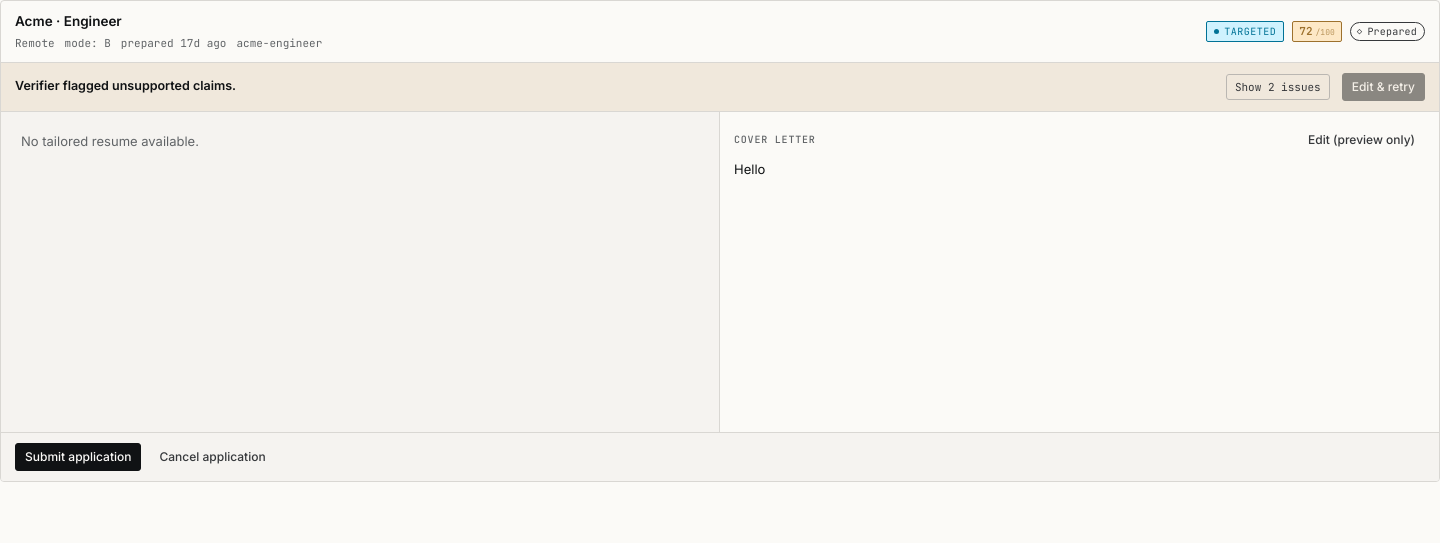
it: QueueCard slice-3 surface › verify issue list toggles on Show/Hide click
Click the button with test id "queue-card-verify-toggle".
click(1278, 87)  # box [1226,74,1330,100]
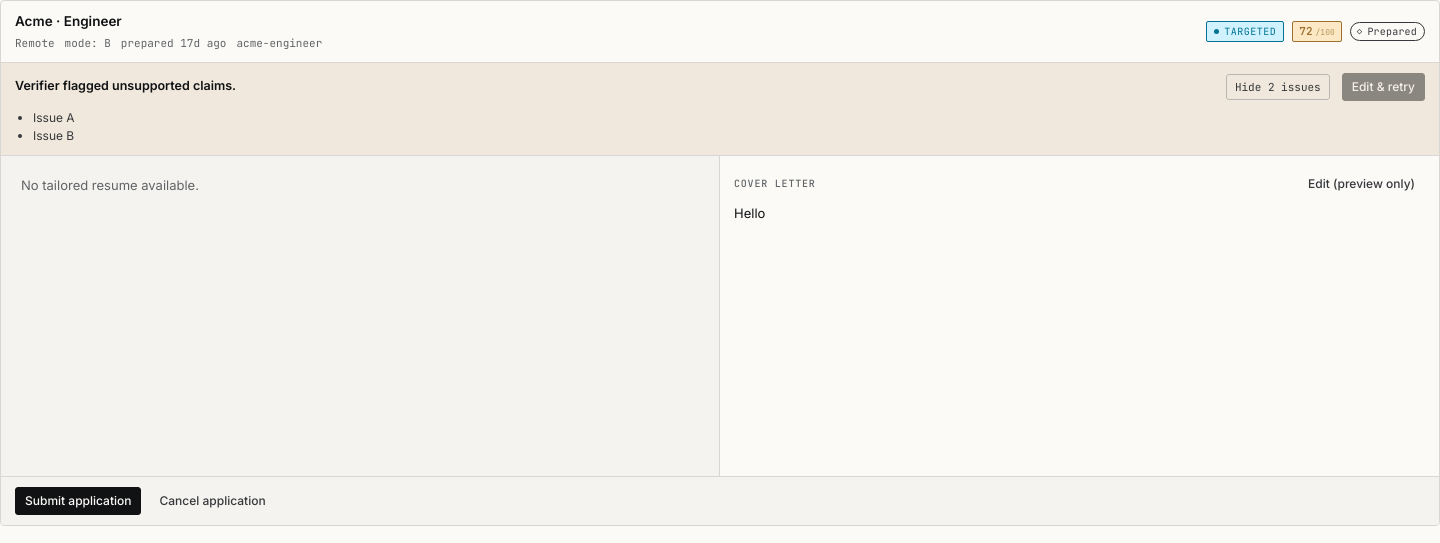
Expected: the list with test id "queue-card-verify-issues" shows "Issue A", [33,110,75,125]
Expected: the list with test id "queue-card-verify-issues" shows "Issue B", [33,128,74,143]
Click the button with test id "queue-card-verify-toggle".
click(1278, 87)  # box [1226,74,1330,100]
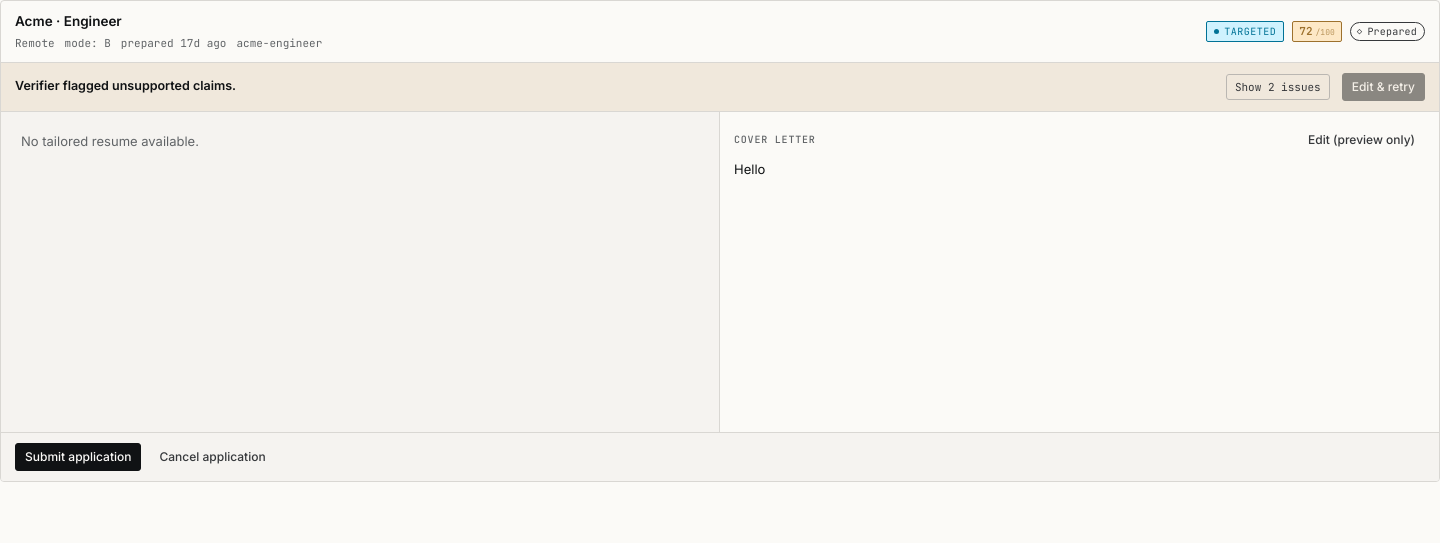
Expected: the list with test id "queue-card-verify-issues" is gone
